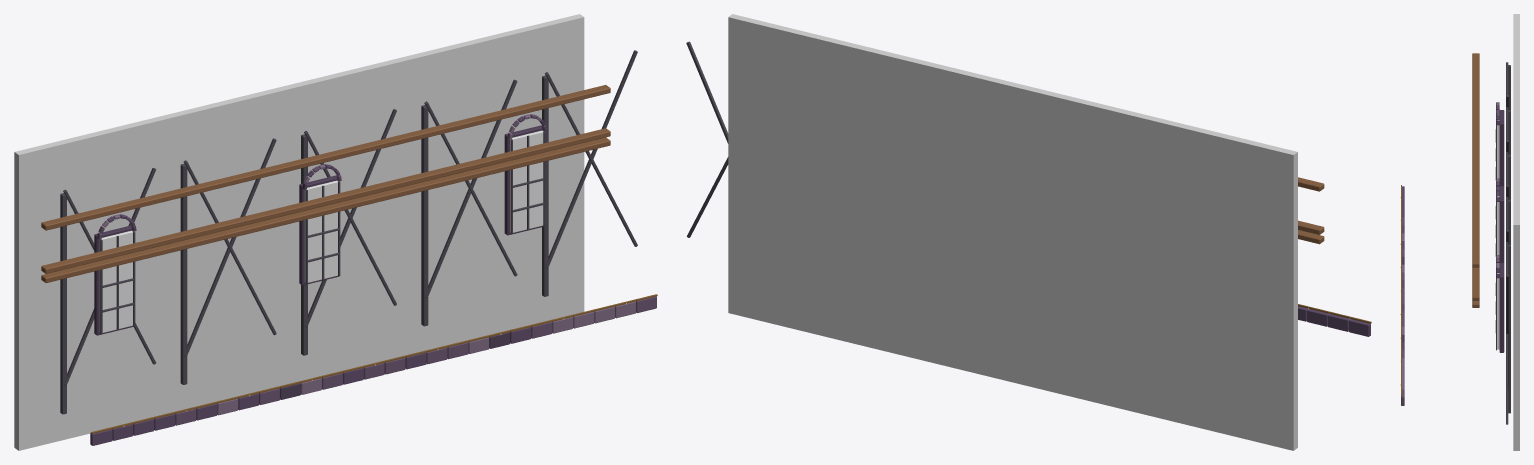
The model's file is SM_Workshop_Background_04.fbx.
The picture shows the model from 3 angles, left to right: view 1: azimuth 30°, elevation 25°; view 2: azimuth 150°, elevation 25°; view 3: azimuth 270°, elevation 25°; orthographic projection. The views are drawn at different scales.
Parts seen in each view (by area): view 1: SM_Workshop_Background_04; view 2: SM_Workshop_Background_04; view 3: SM_Workshop_Background_04.
Part boxes in pixels (bbox=[...]): SM_Workshop_Background_04: bbox=[14, 14, 657, 450]; SM_Workshop_Background_04: bbox=[686, 14, 1371, 450]; SM_Workshop_Background_04: bbox=[1400, 14, 1519, 450].
Size of the model in its own units: 2936 by 649 by 1350.
